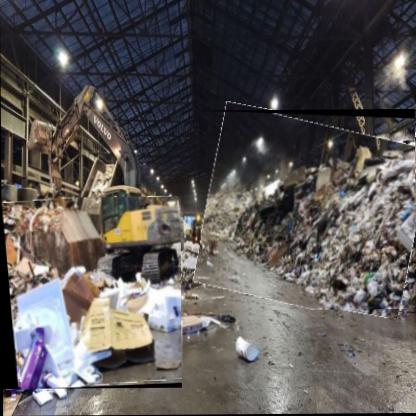Garbage: (200, 110, 416, 313), (2, 198, 183, 391)
